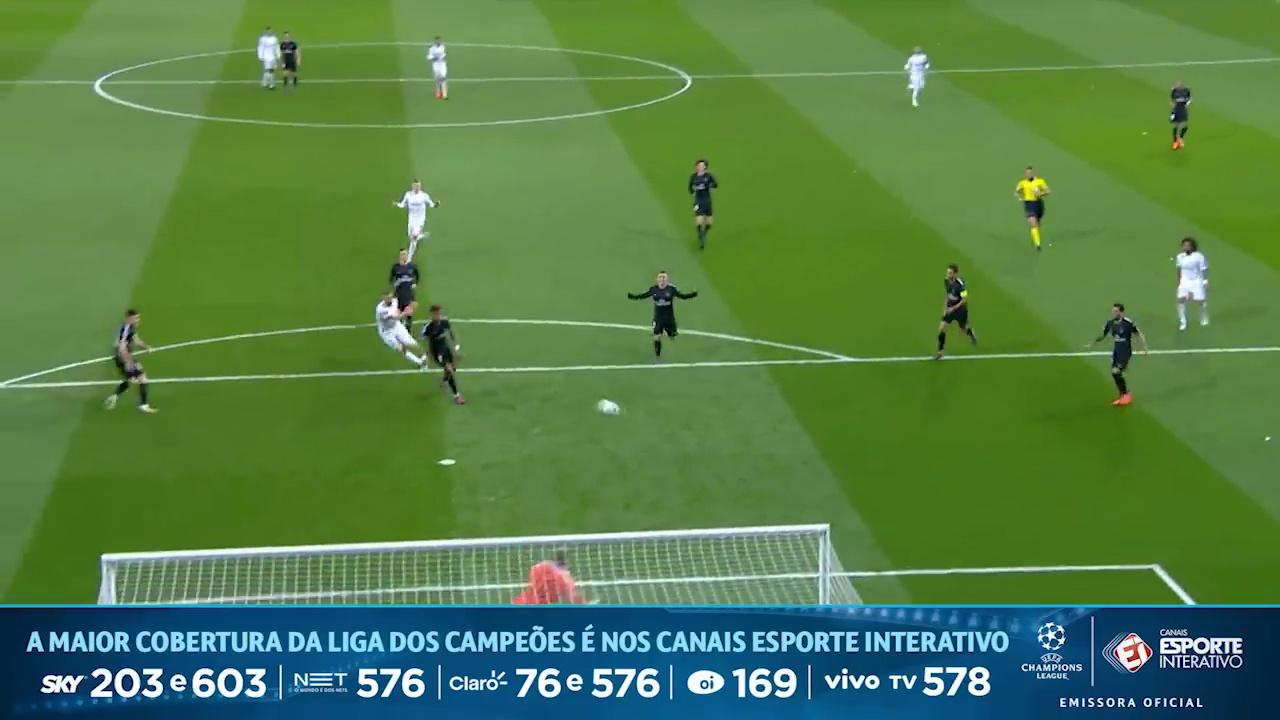football: (595, 394, 625, 424)
player: (1086, 303, 1149, 405), (628, 271, 697, 358), (104, 309, 157, 412), (422, 305, 464, 404), (512, 553, 589, 604), (375, 292, 426, 368), (935, 264, 976, 358), (394, 179, 438, 259), (1175, 237, 1208, 329), (688, 159, 717, 248), (389, 249, 419, 330), (389, 250, 419, 309), (904, 46, 929, 107), (1170, 80, 1191, 149), (257, 27, 280, 89), (427, 37, 446, 99), (279, 32, 300, 87)
referee: (1015, 167, 1049, 249)
